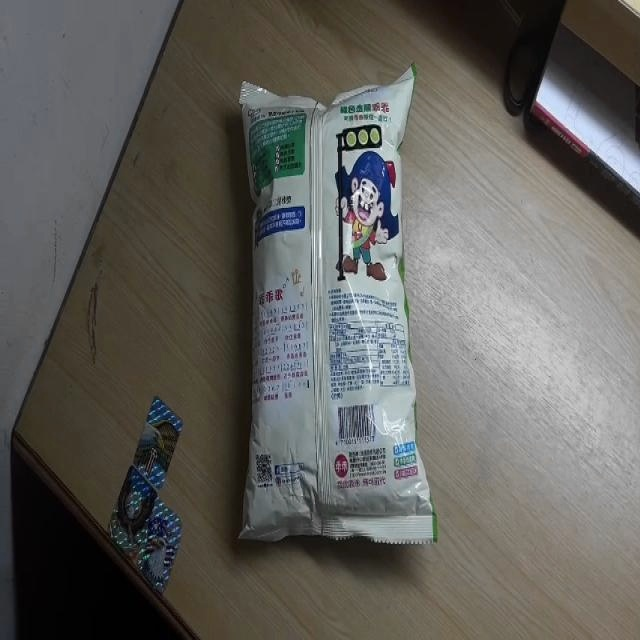Good-Luck: (232, 68, 439, 553)
